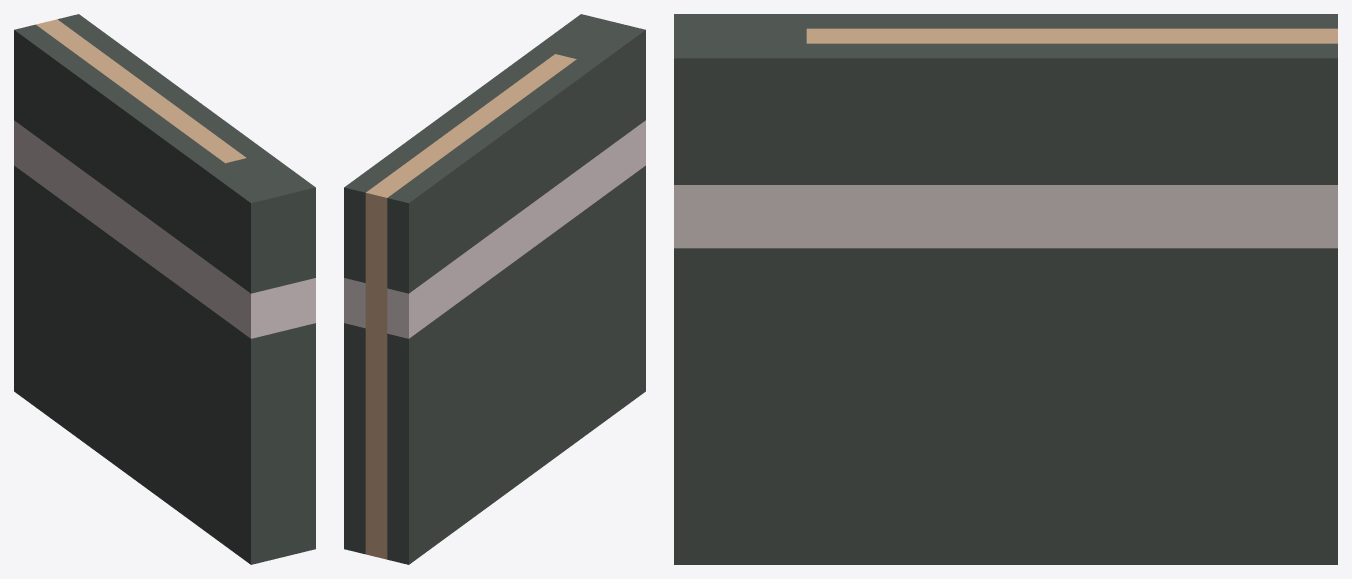
File: livre6.fbx
3 views of the same model, side by side, from view 1: azimuth 30°, elevation 25°; view 2: azimuth 150°, elevation 25°; view 3: azimuth 270°, elevation 25° (orthographic). The views are drawn at different scales.
Parts seen in each view (by area): view 1: Livre 6; view 2: Livre 6; view 3: Livre 6.
Boxes of the visible parts, left/top/right/bottom form: Livre 6: left=14, top=14, right=315, bottom=564; Livre 6: left=344, top=14, right=645, bottom=564; Livre 6: left=674, top=14, right=1337, bottom=564.
Bounding box in the file's own units: 3 × 16 × 19.
1 material, 1 textured.
